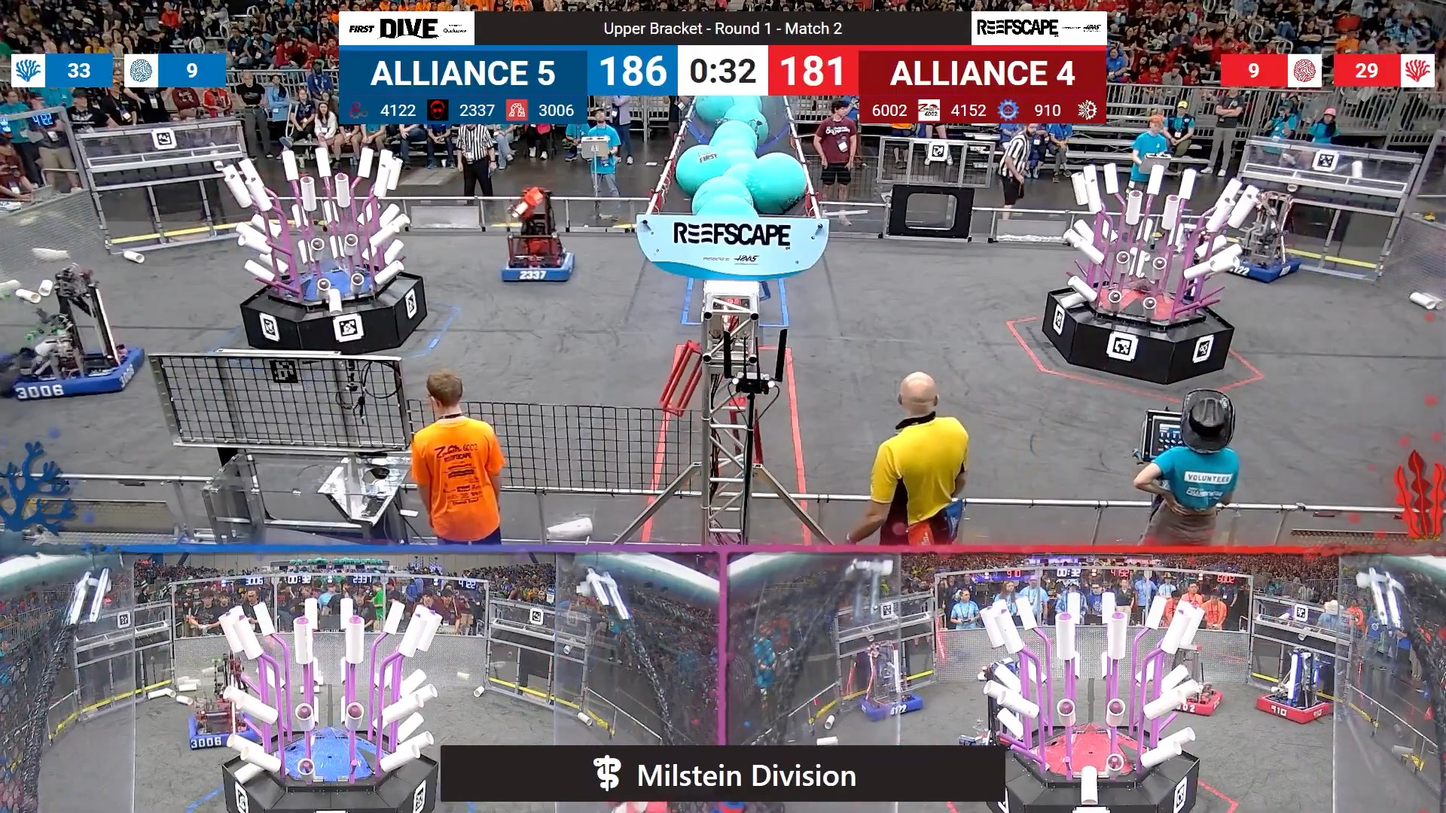bumpers: (0, 341, 149, 407), (181, 706, 267, 752), (1217, 248, 1308, 287), (493, 248, 580, 288), (1249, 691, 1338, 726), (851, 691, 931, 723), (1163, 683, 1228, 717)
